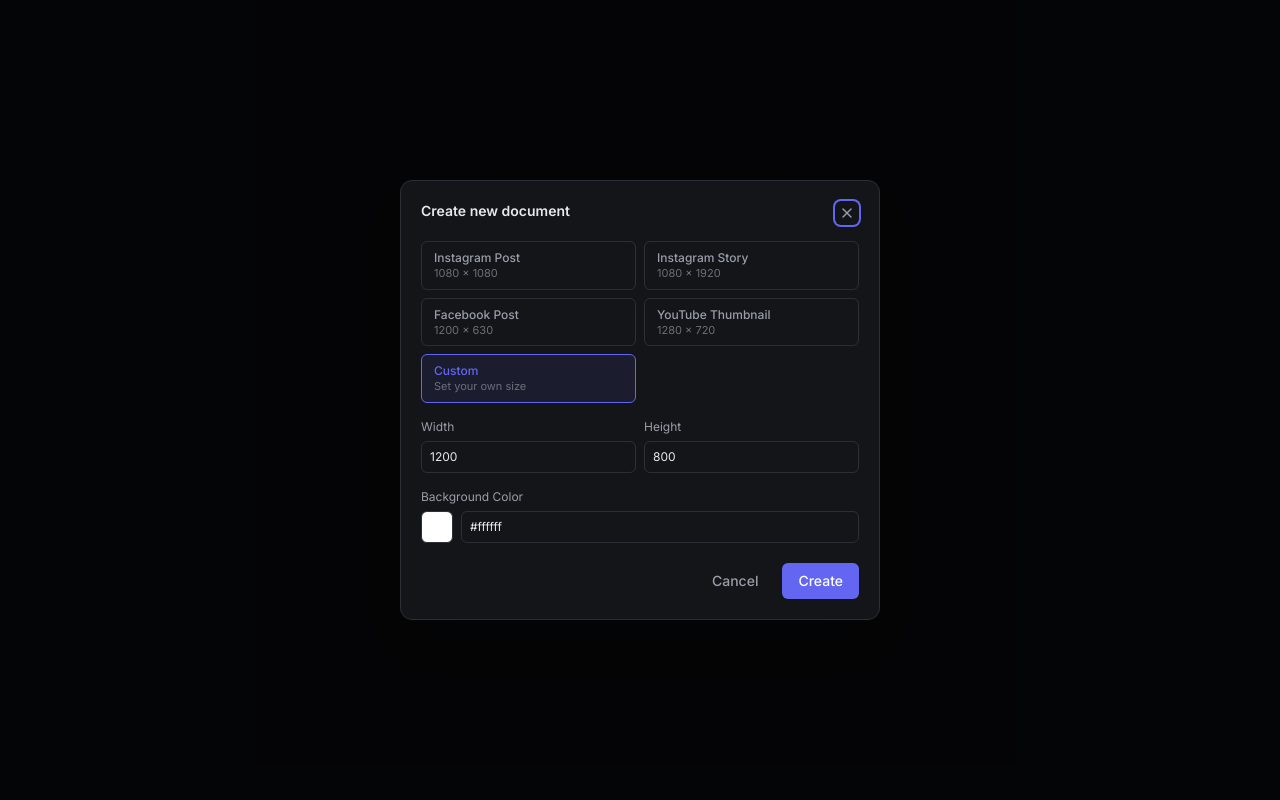
Scenario: NewCanvasDialog › rejects dimensions over the maximum with an inline error and does not create a document
The width and height of the screenshot is (1280, 800).
expect the heading "Create new document" is shown: met, box [421, 201, 570, 221]
Replace the text in the number field labelled "Width" with "999999" at (528, 457), box [430, 449, 627, 465]
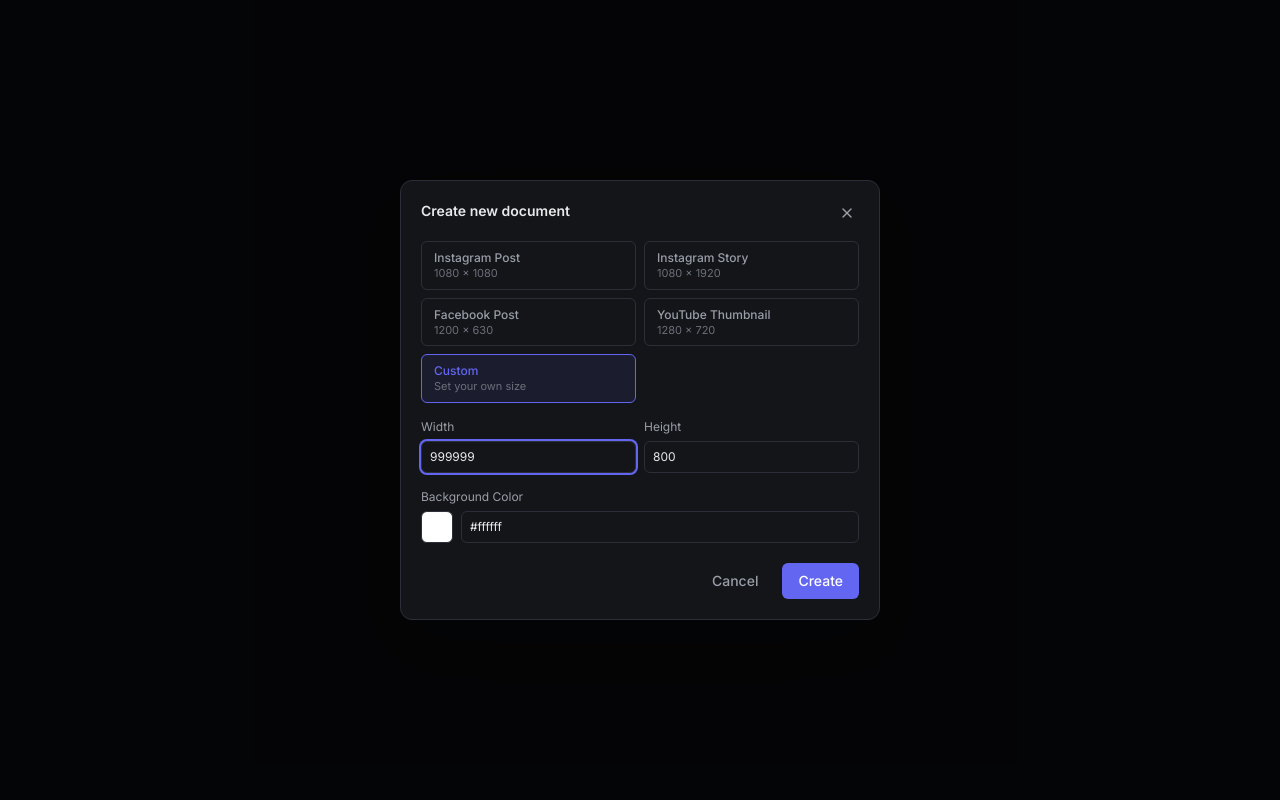
Press Tab
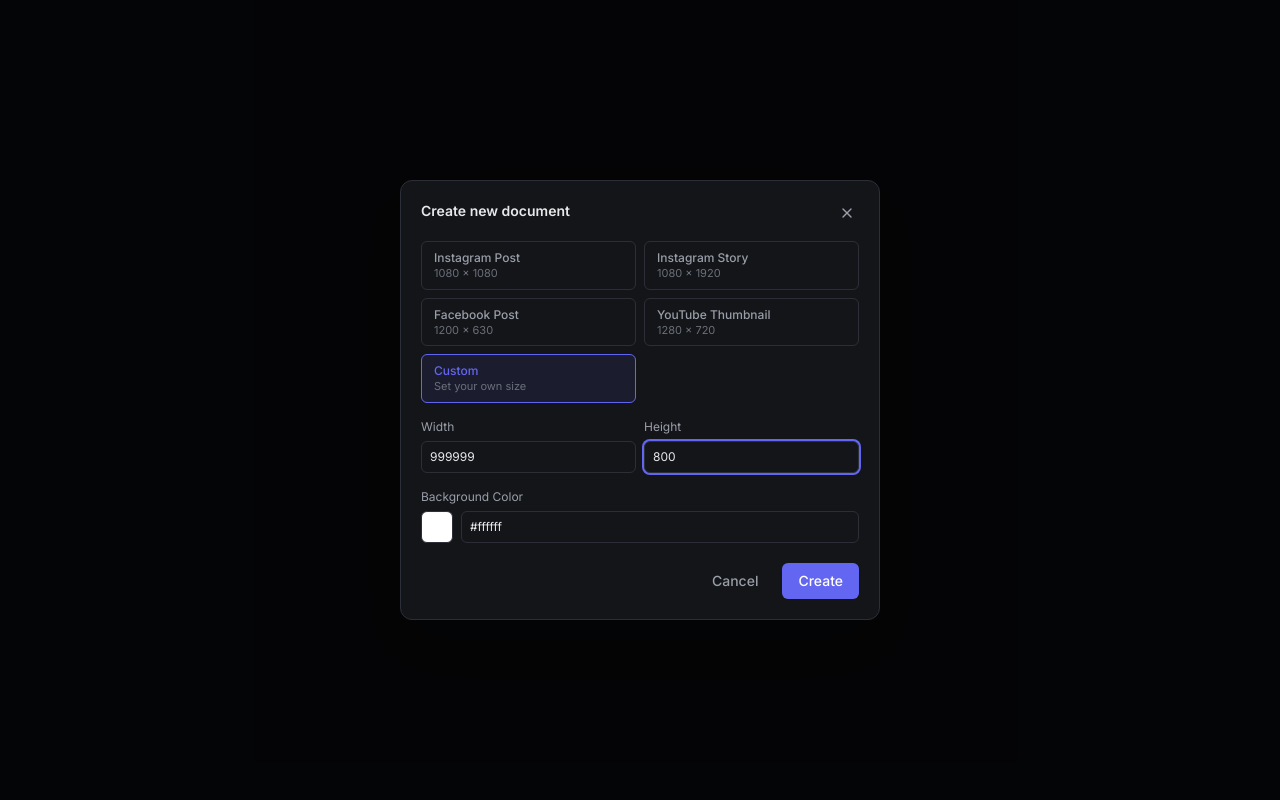
Click the button "Create" at (821, 581), box [782, 563, 859, 599]
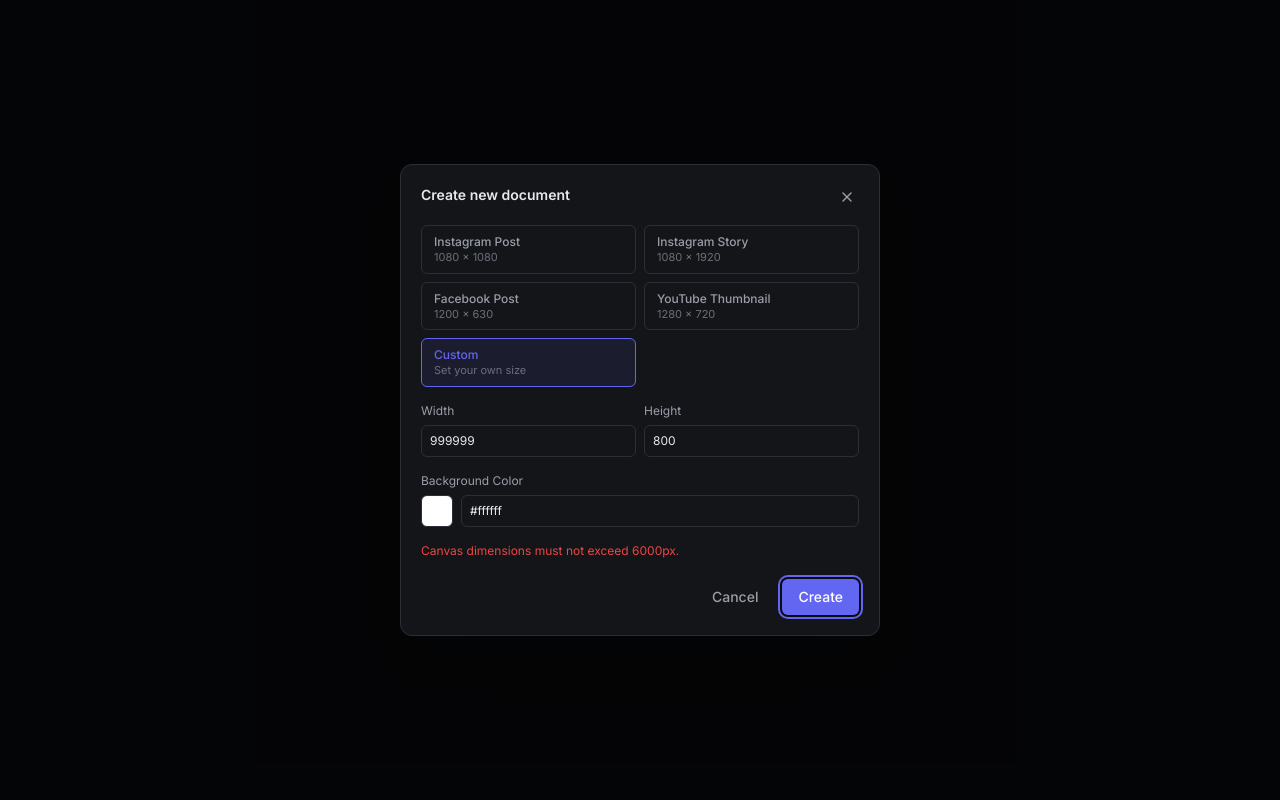
expect the text "Canvas dimensions must not exceed 6000px." is shown: met, box [421, 543, 679, 558]
